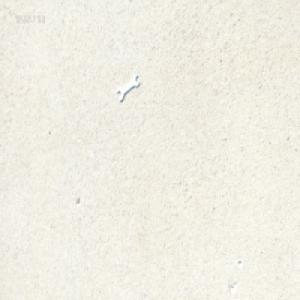Wrench: (117, 73, 139, 102)
